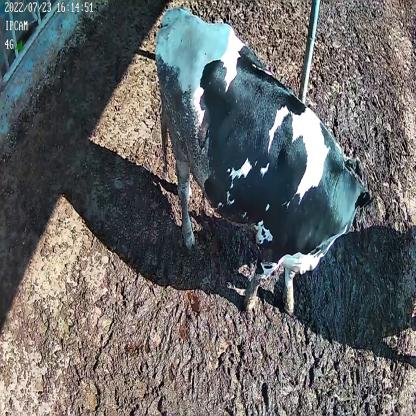cow: (154, 5, 370, 314)
